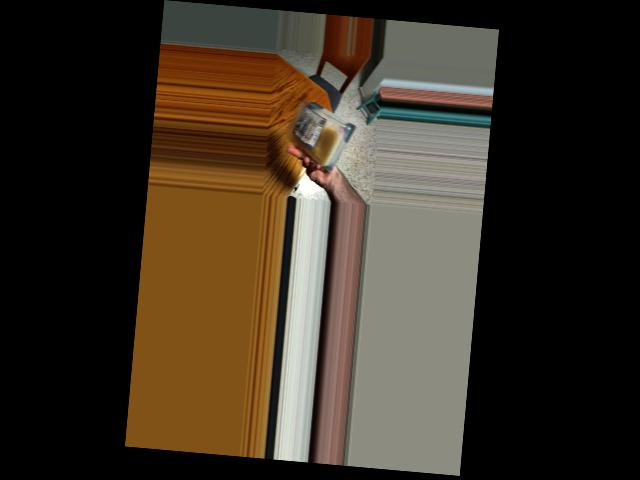cheese: (289, 100, 357, 156)
